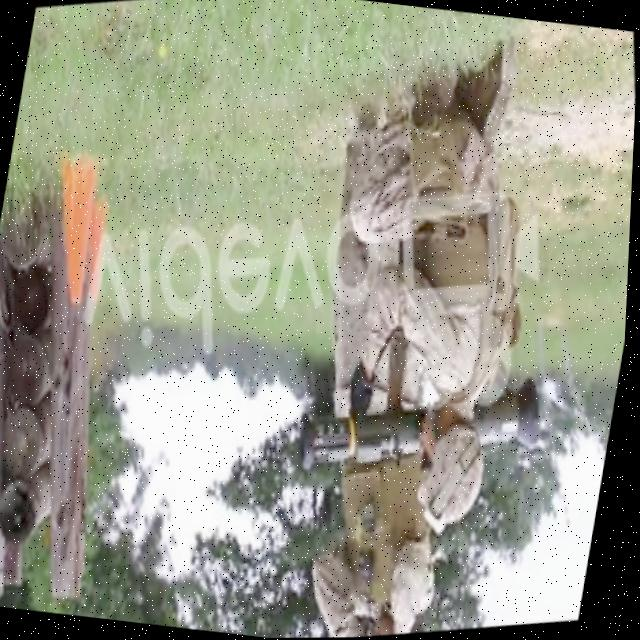rocket: (290, 350, 559, 498)
